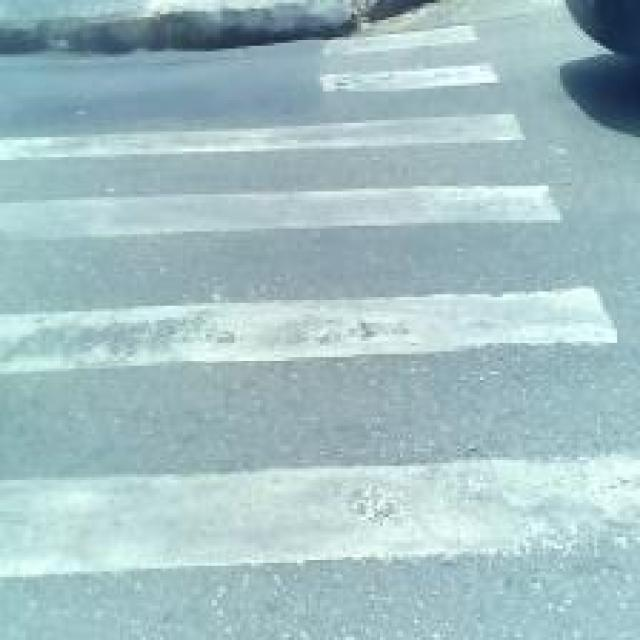walk-crossing: (0, 23, 597, 611)
